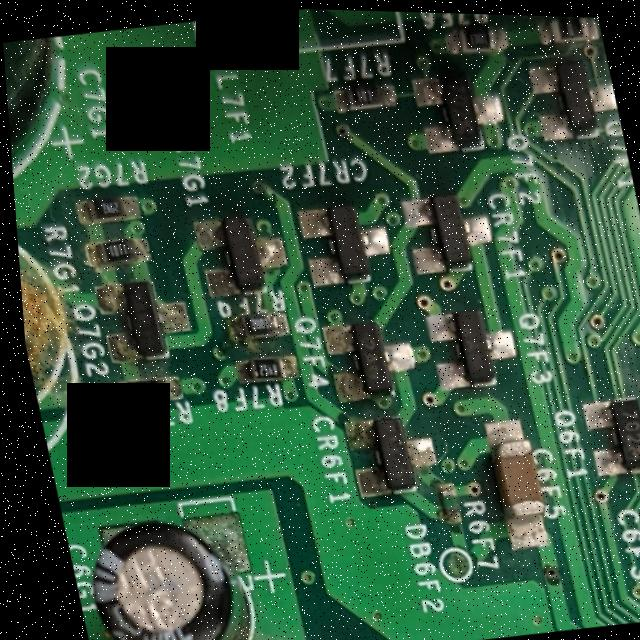4439: (434, 293, 508, 393), (202, 203, 281, 295), (99, 272, 181, 357), (307, 192, 379, 287), (413, 186, 482, 275), (348, 411, 421, 493), (426, 62, 493, 149), (541, 51, 608, 131), (331, 317, 398, 396), (589, 383, 640, 476)
capacitor 1V5: (68, 507, 259, 640), (487, 425, 551, 528), (636, 499, 640, 558)
resistor IR1: (332, 75, 395, 109), (118, 370, 175, 405), (80, 192, 134, 222), (454, 21, 499, 53), (237, 352, 283, 381), (90, 234, 134, 264), (232, 309, 280, 336), (547, 13, 591, 42), (429, 479, 456, 516)
